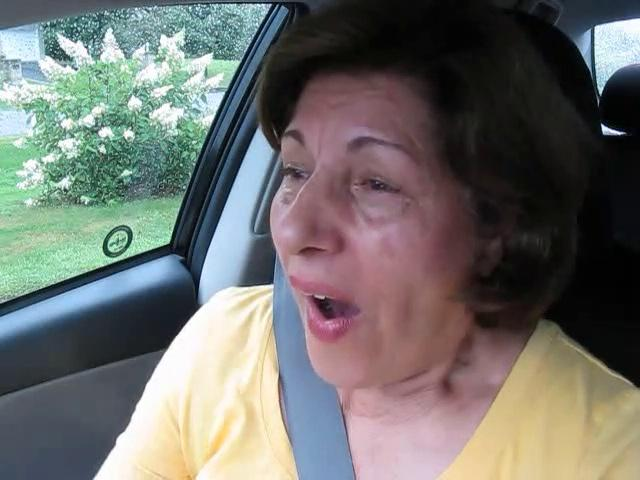close_eyeL: (272, 156, 324, 193)
close_eyeR: (344, 154, 412, 206)
yawn: (281, 281, 386, 346)
